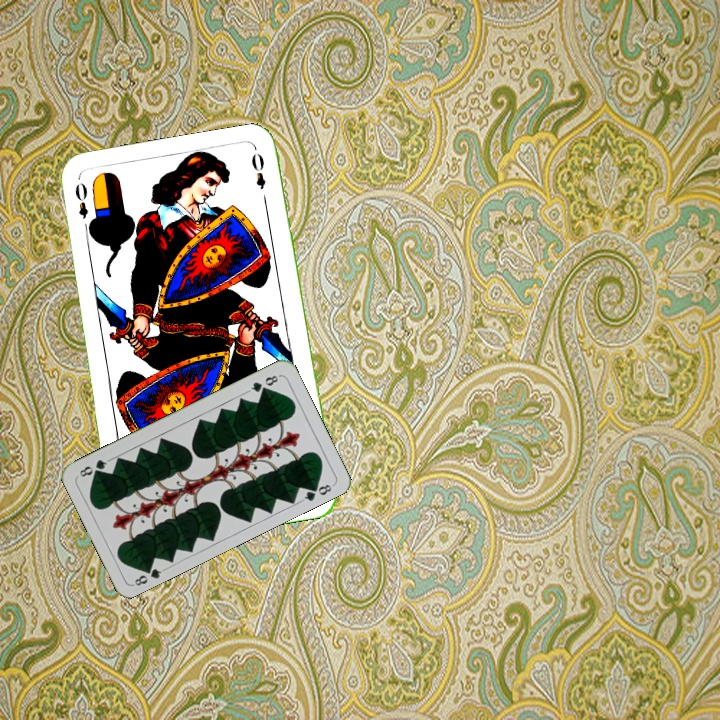EO: (71, 178, 95, 236)
G8: (129, 561, 167, 589), (244, 371, 282, 395)
